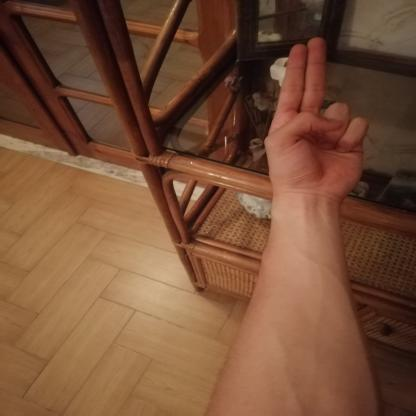TA: (252, 26, 386, 213)
